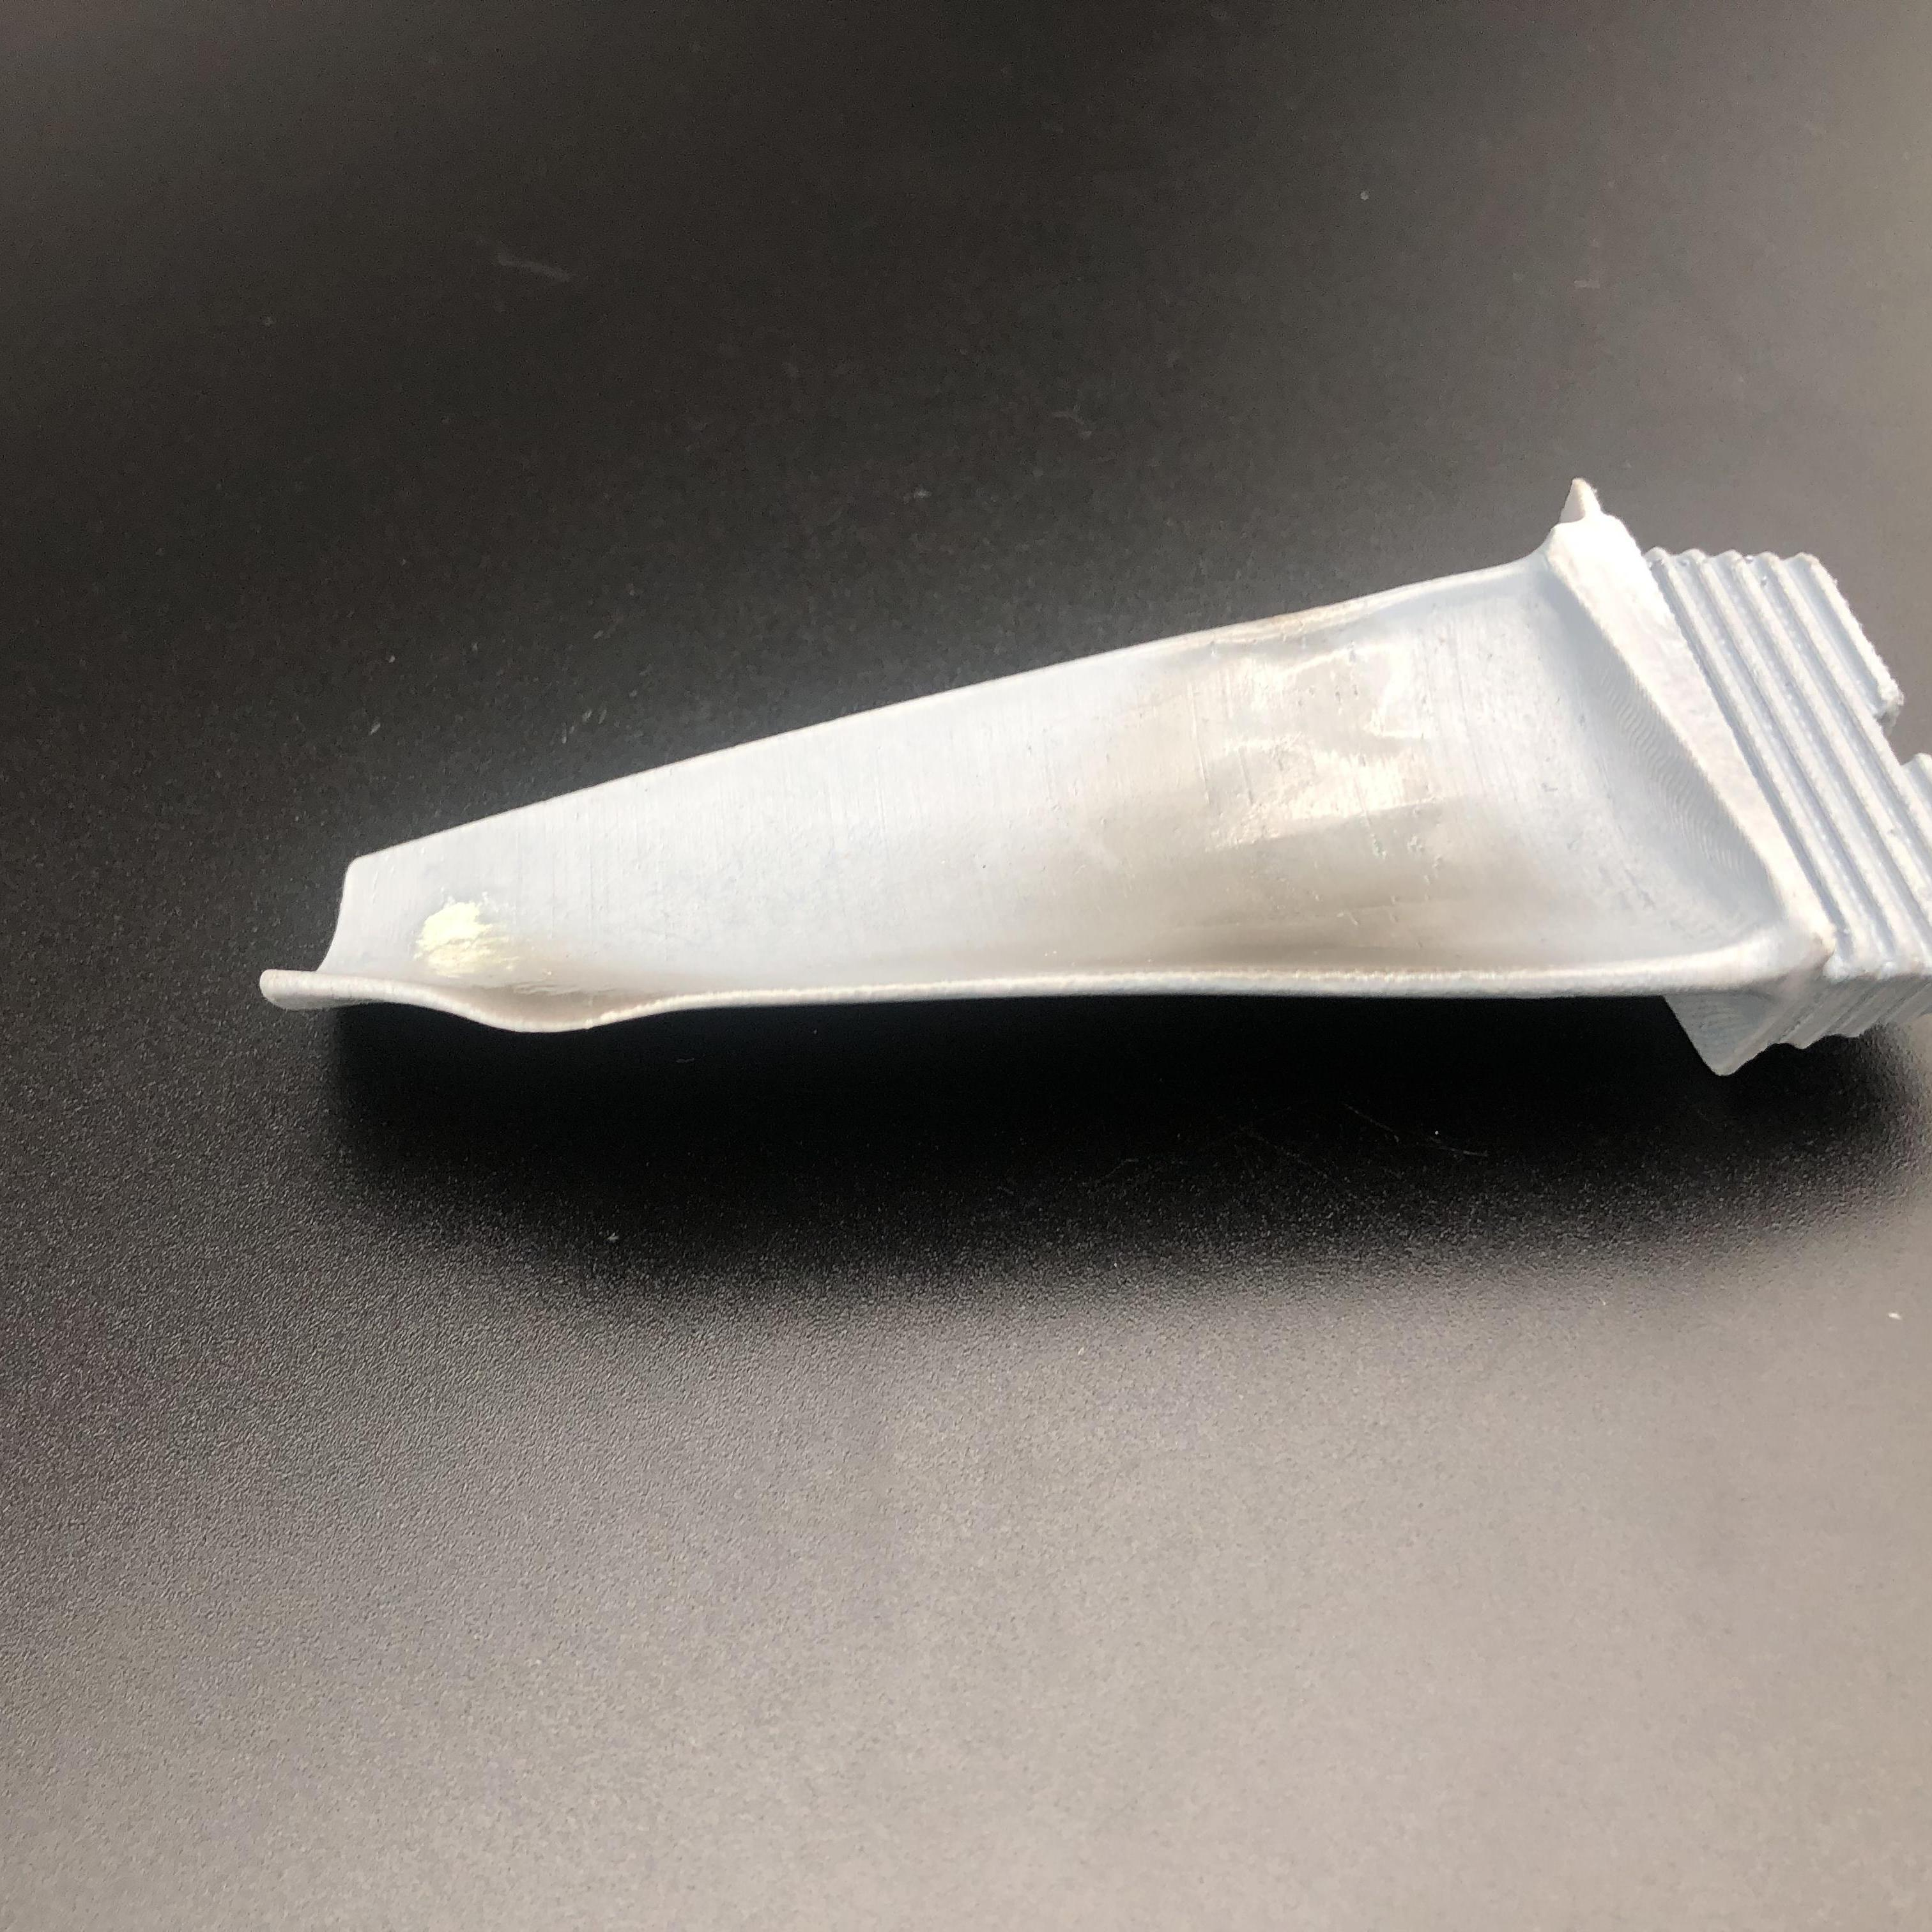ablation: (1145, 759, 1555, 971), (435, 918, 692, 1021)
